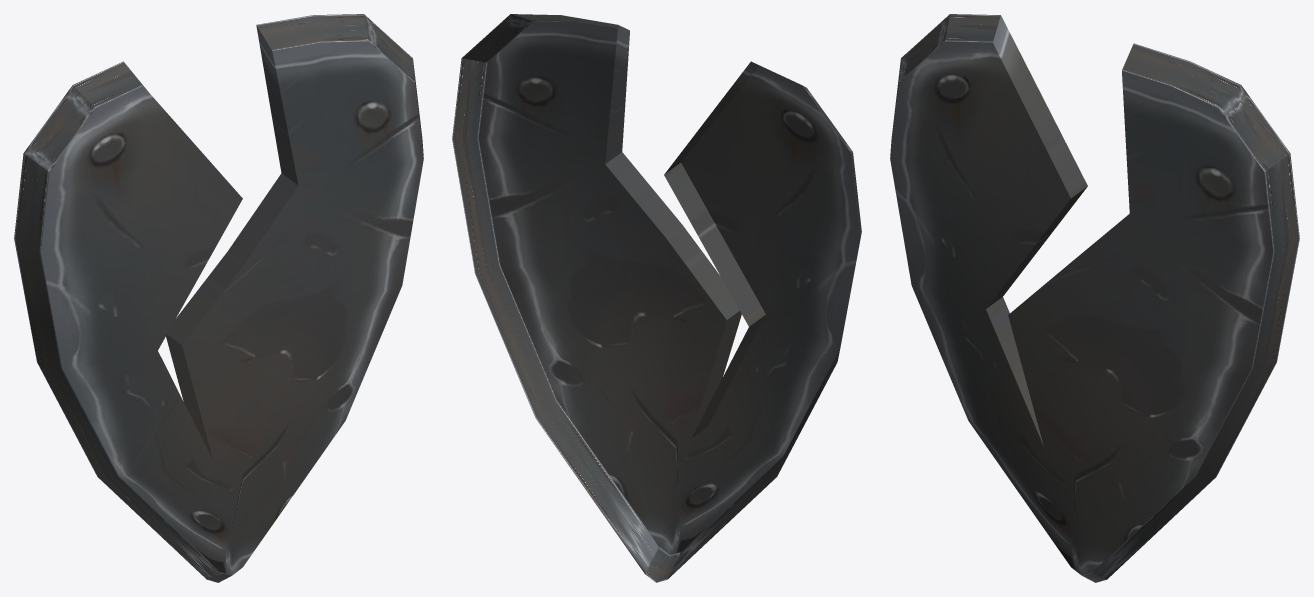
Rendered from Shield_3.fbx.
3 renders of one model, left to right at view 1: azimuth 30°, elevation 25°; view 2: azimuth 150°, elevation 25°; view 3: azimuth 330°, elevation 25°, orthographic.
Visible parts, largest first — view 1: 1_Shield_3; view 2: 1_Shield_3; view 3: 1_Shield_3.
Boxes of the visible parts, x1=… form: 1_Shield_3: x1=14, y1=14, x2=423, y2=582; 1_Shield_3: x1=452, y1=14, x2=861, y2=582; 1_Shield_3: x1=890, y1=14, x2=1299, y2=582.
Bounding box in the file's own units: 107 × 137 × 12.78.
